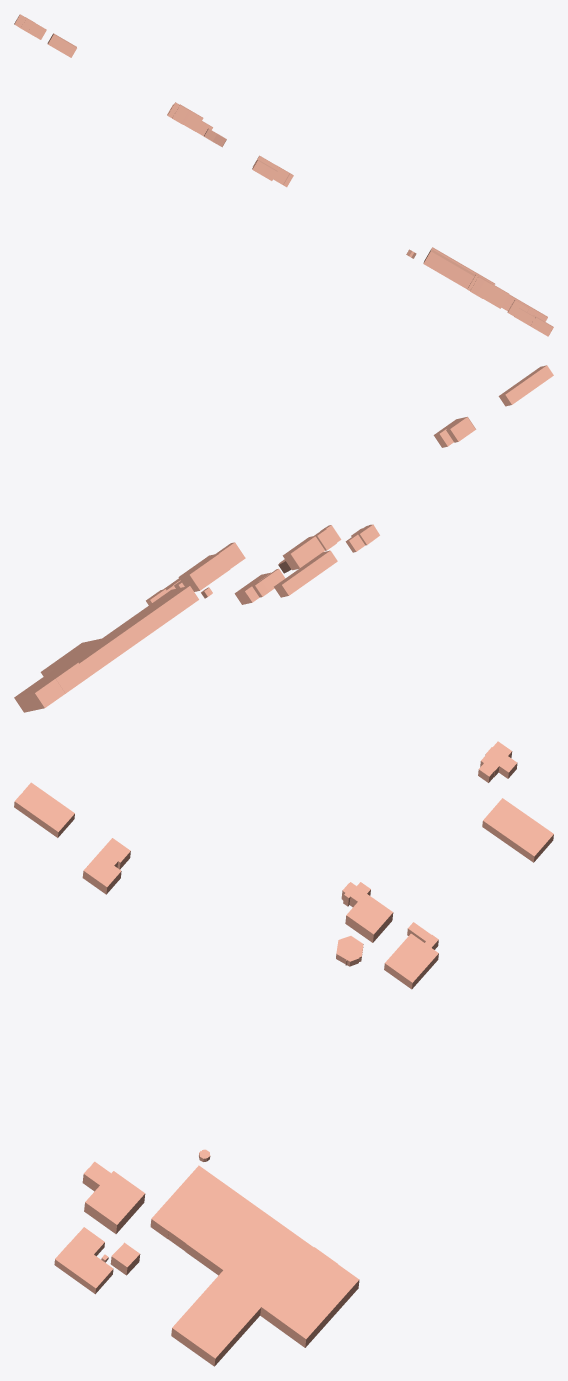
3 renders of one model, top to bottom at view 1: azimuth 30°, elevation 25°; view 2: azimuth 150°, elevation 25°; view 3: azimuth 270°, elevation 25°, orthographic. The views are drawn at different scales.
Bounding box in the file's own units: 265 × 199 × 249.
